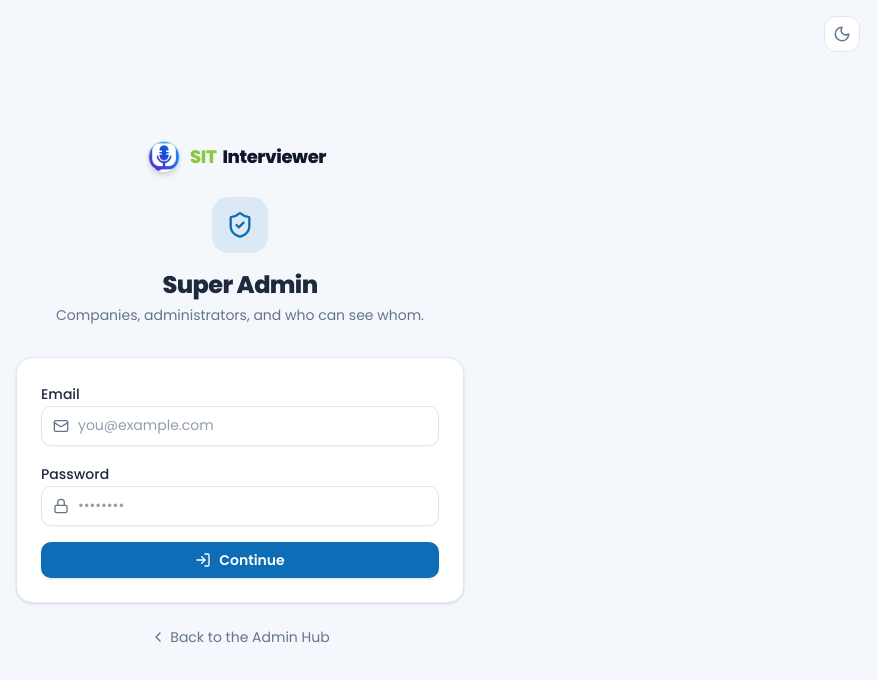
Scenario: step one: password › does NOT store a session on a correct password
In the field labelled "Email": x=240, y=426 [41,406,439,446], type "admin@interviewer.com"
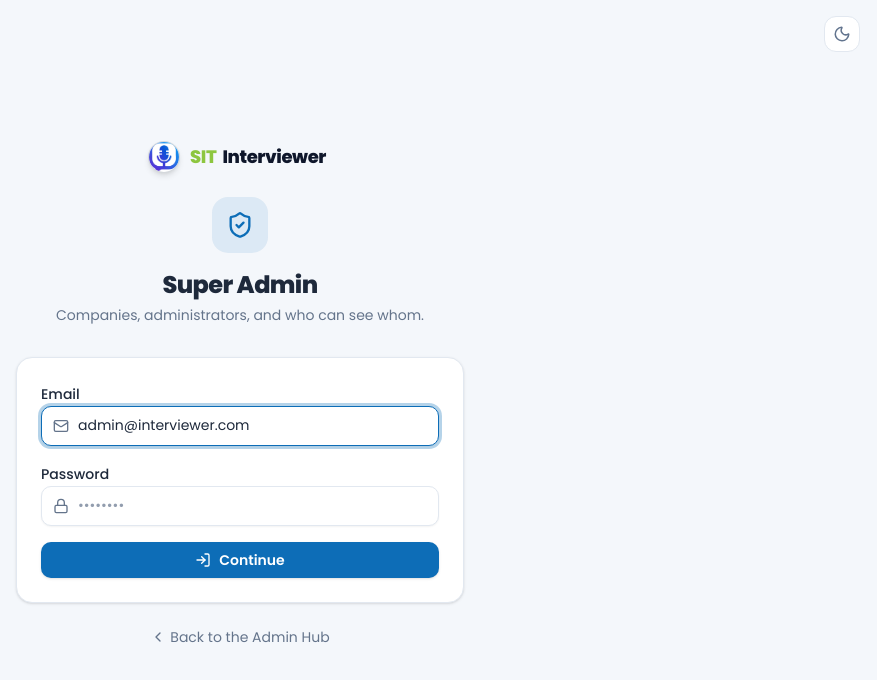
In the password field labelled "Password": x=240, y=506 [41,486,439,526], type "correct-horse-battery"
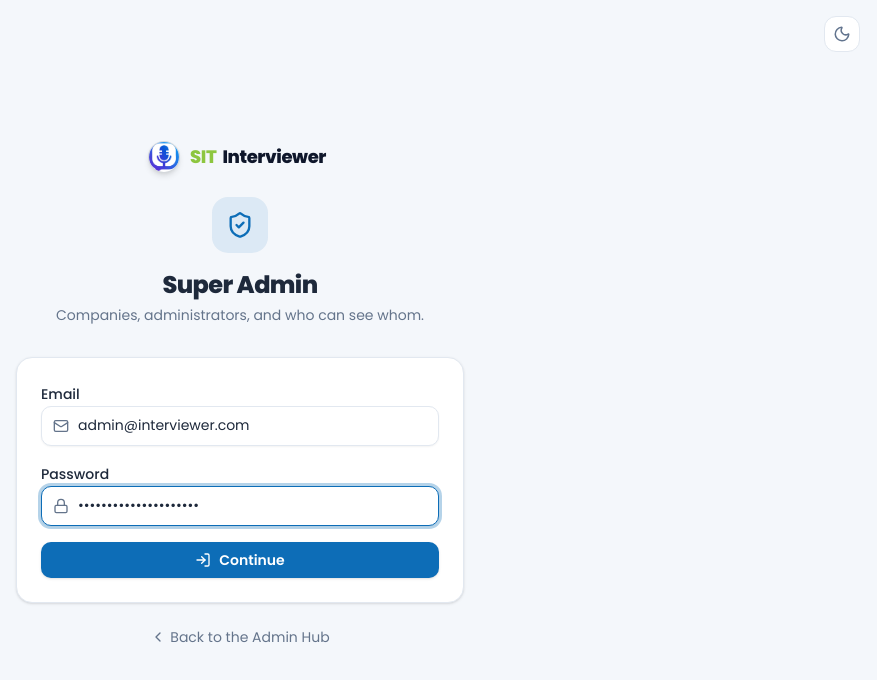
Click the button "Continue": x=240, y=560 [41,542,439,578]
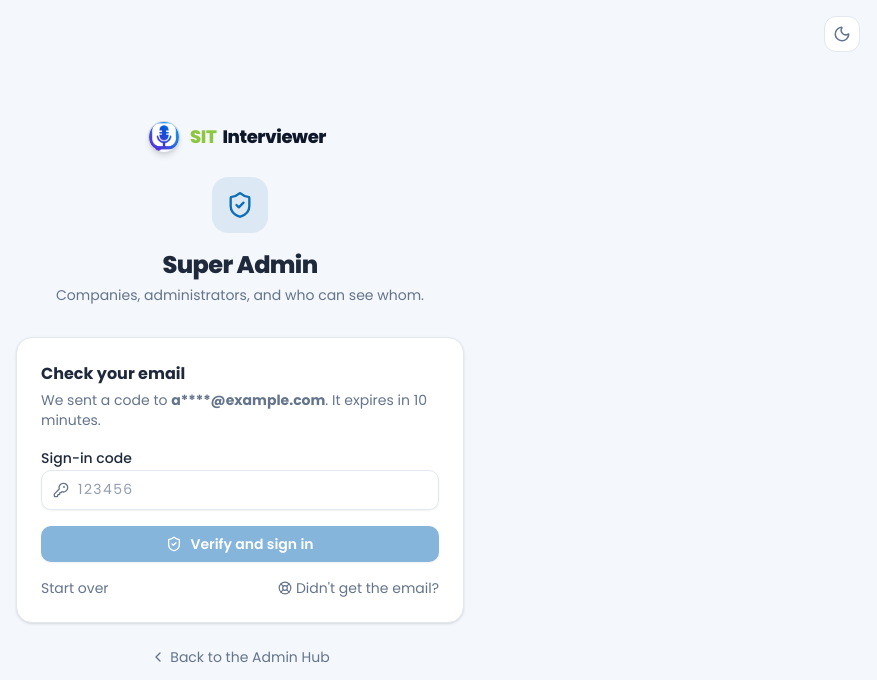
Result: the heading "Check your email" is shown at [41,362,185,384]
